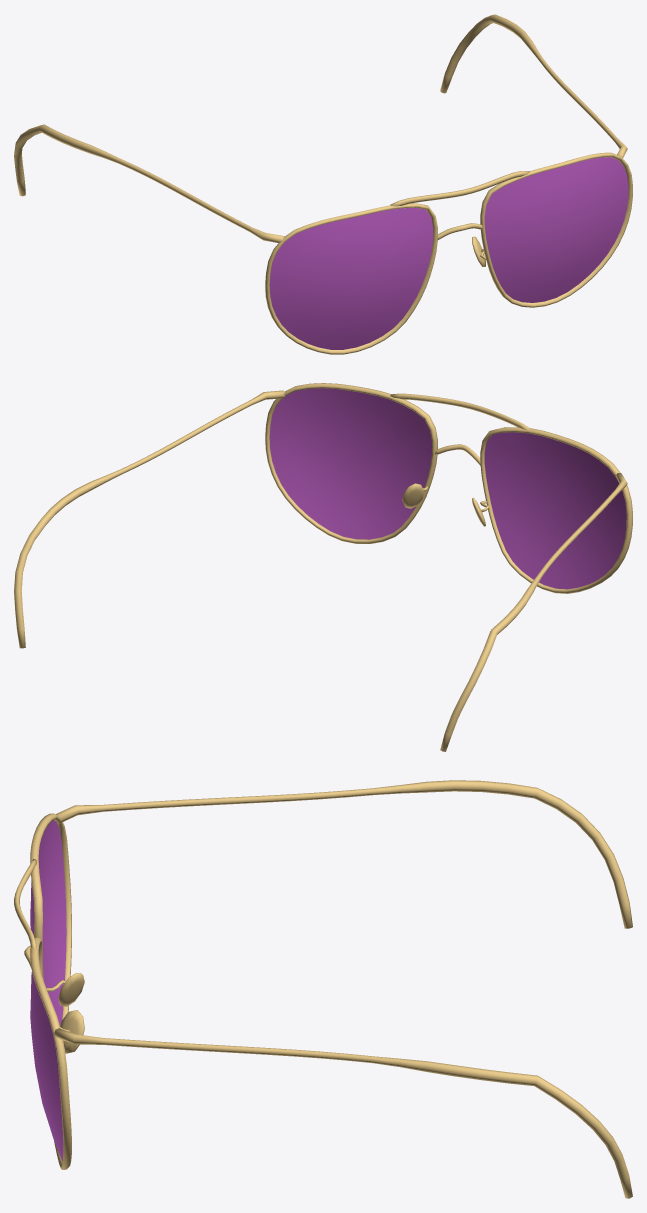
File: aviator.glb
The picture shows the model from 3 angles, top to bottom: view 1: azimuth 30°, elevation 25°; view 2: azimuth 150°, elevation 25°; view 3: azimuth 270°, elevation 25°; orthographic projection. The views are drawn at different scales.
Visible parts, largest first — view 1: Lens, Frame; view 2: Lens, Frame; view 3: Frame, Lens.
Part boxes in pixels (x1,y1,x2,y2): Lens: [269, 157, 628, 349]; Frame: [14, 14, 632, 354]; Lens: [269, 388, 626, 589]; Frame: [14, 383, 632, 751]; Frame: [14, 780, 632, 1198]; Lens: [30, 820, 66, 1160].
Bounding box in the file's own units: 0.162 × 0.0505 × 0.1432.
